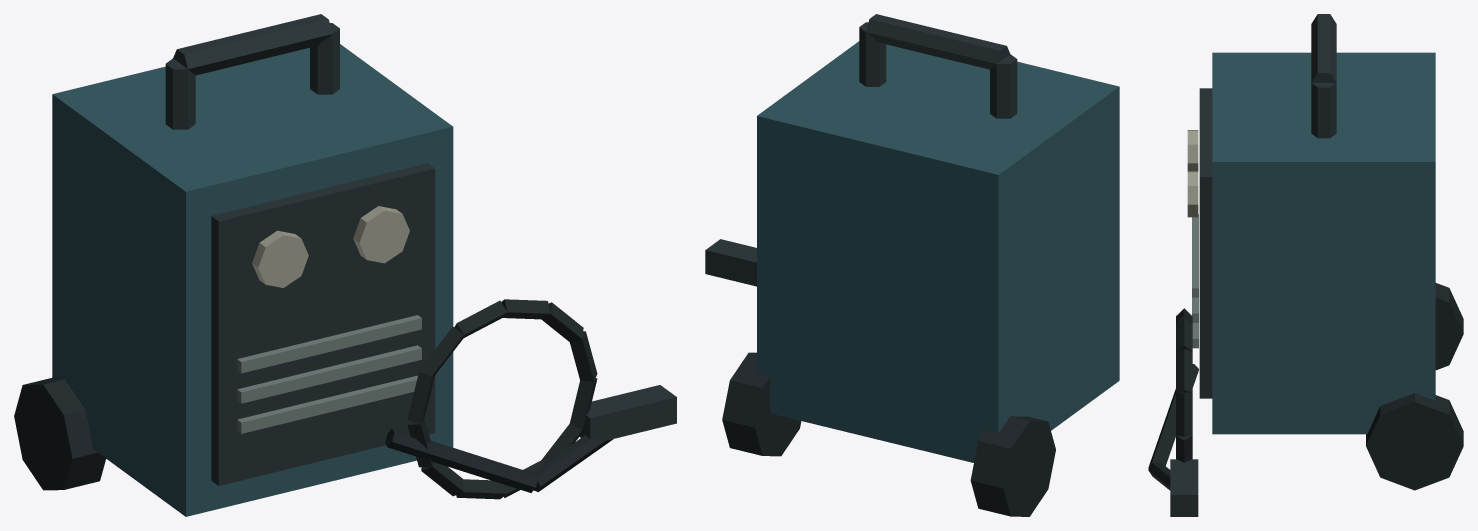
3 views of the same model, side by side, from view 1: azimuth 30°, elevation 25°; view 2: azimuth 150°, elevation 25°; view 3: azimuth 270°, elevation 25° (orthographic). The views are drawn at different scales.
Visible parts, largest first — view 1: a191; view 2: a191; view 3: a191.
Part boxes in pixels (x1,y1,x2,y2): a191: [14, 14, 676, 516]; a191: [705, 14, 1119, 516]; a191: [1148, 14, 1463, 516].
Size of the model in its own units: 0.675 by 0.6056 by 0.4515.
